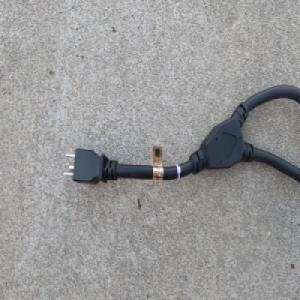Wire: (62, 82, 300, 187)
